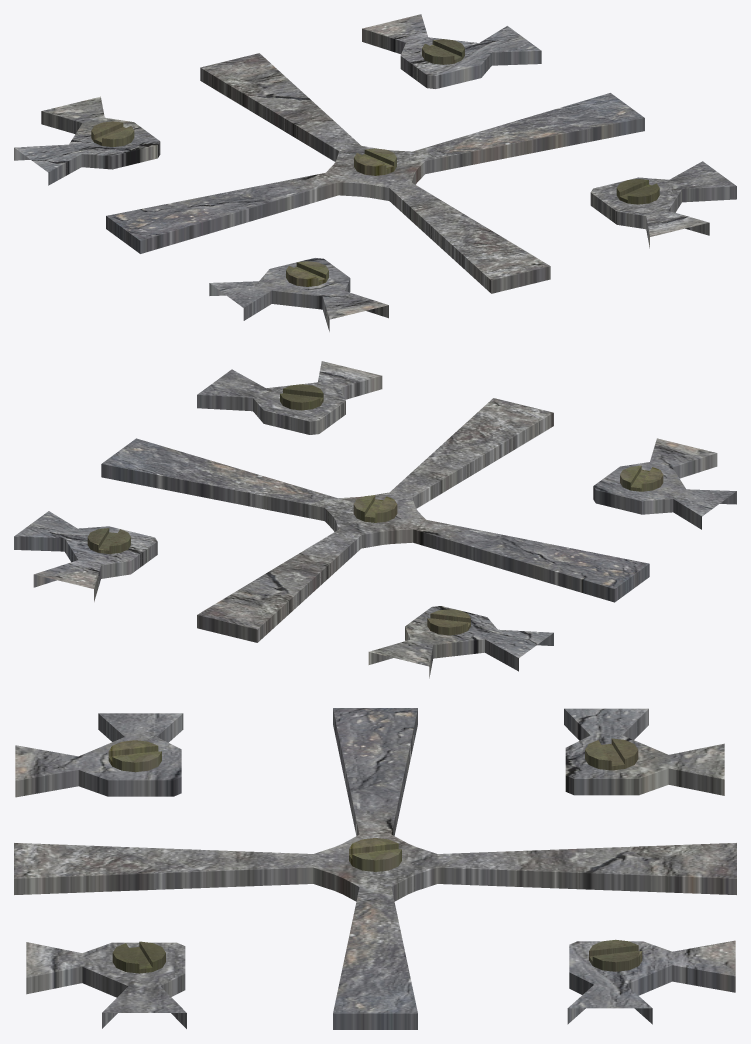
The model's file is vent_supp1.fbx.
3 renders of one model, top to bottom at view 1: azimuth 30°, elevation 25°; view 2: azimuth 150°, elevation 25°; view 3: azimuth 270°, elevation 25°, orthographic. The views are drawn at different scales.
Visible parts, largest first — view 1: polySurface381; view 2: polySurface381; view 3: polySurface381.
Part boxes in pixels (box(x1,y1,x2,y2)): polySurface381: box(14, 14, 736, 331); polySurface381: box(14, 361, 736, 678); polySurface381: box(14, 708, 736, 1029).
Size of the model in its own units: 86.42 by 3.7 by 86.42.
